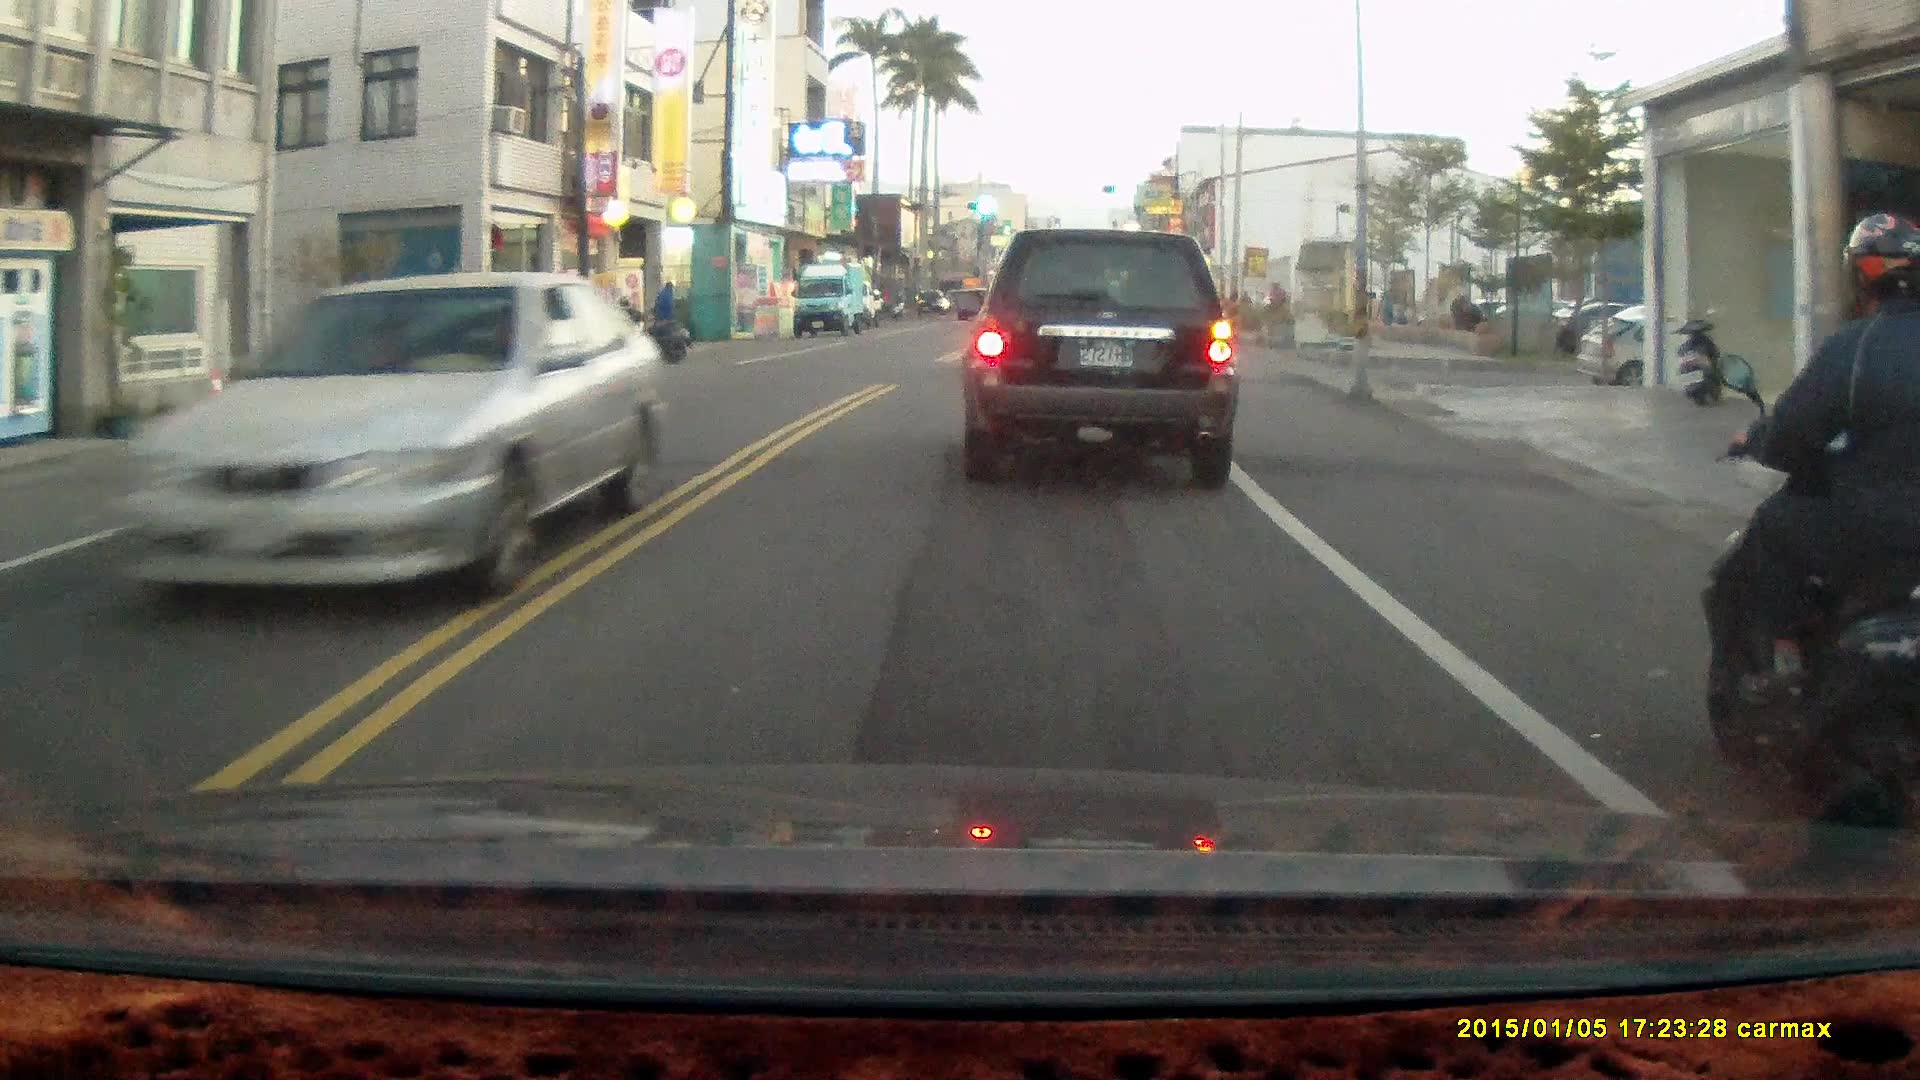pedestrian: (647, 278, 677, 353)
rider: (1694, 211, 1919, 857)
vehicle: (117, 270, 672, 611), (967, 227, 1245, 494), (1575, 319, 1786, 398), (793, 266, 872, 344)
